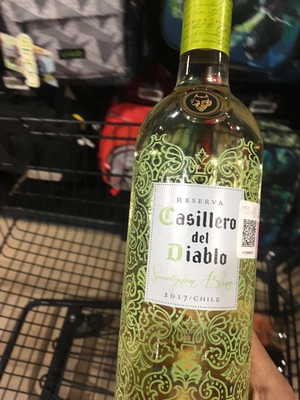casillero del diablo sauvignon blanc: (111, 9, 274, 400)
